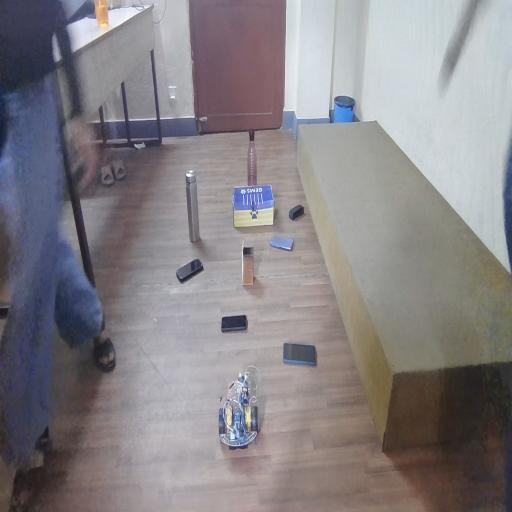Bottle: (244, 124, 269, 188)
car: (212, 362, 279, 463)
